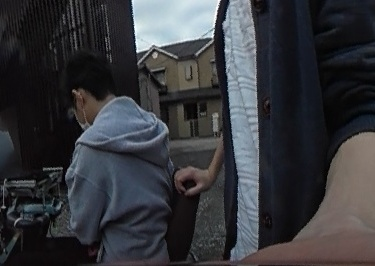person: (43, 54, 160, 266)
